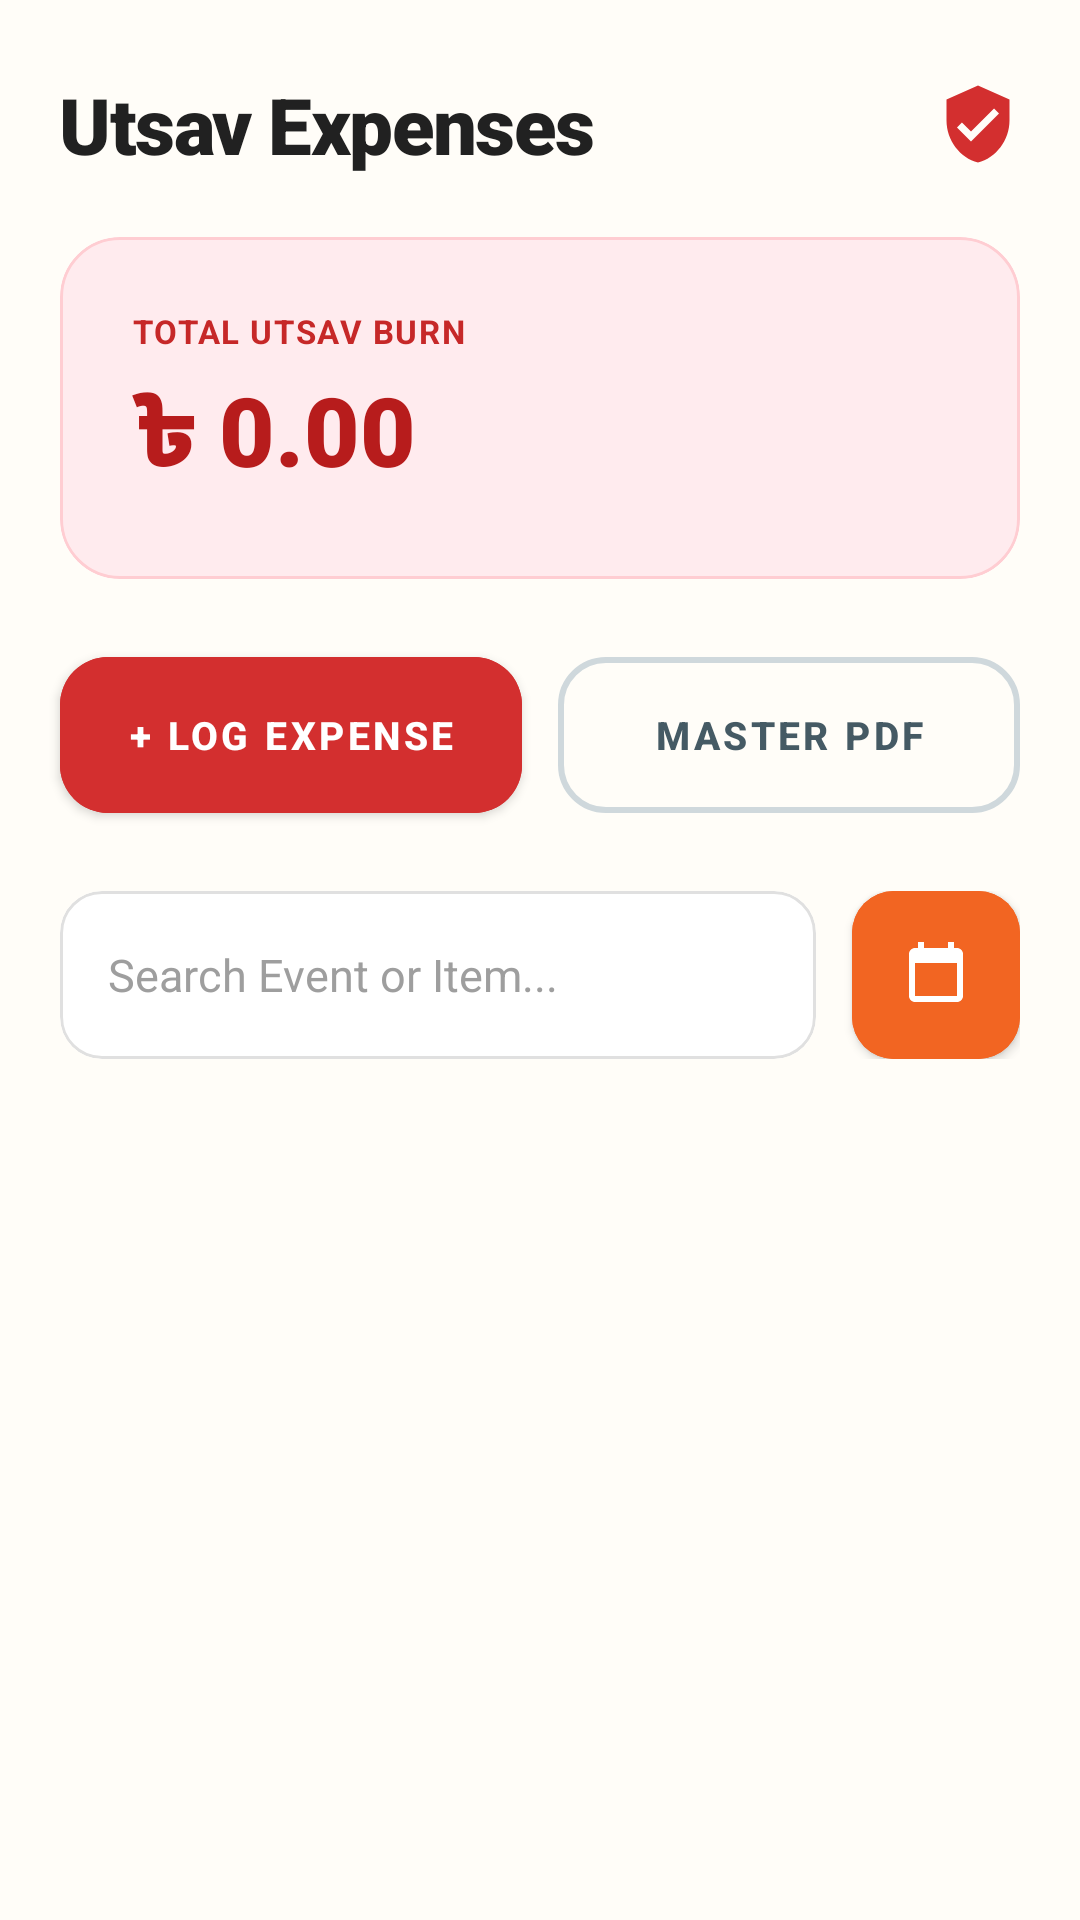

Icons on this 1080x1920 Android screen, each with the point to tap as [x,y]:
calendar: [936,975]
secure shield: [978,124]
